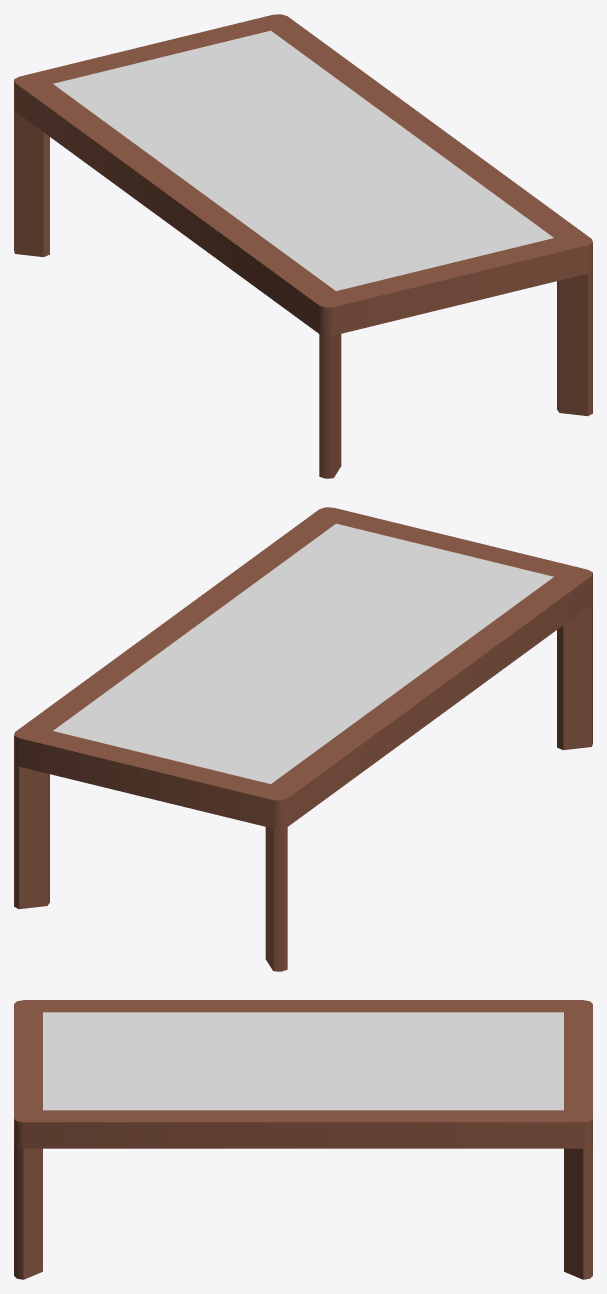
Rendered from Table.fbx.
3 views of the same model, one above another, from view 1: azimuth 30°, elevation 25°; view 2: azimuth 150°, elevation 25°; view 3: azimuth 270°, elevation 25° (orthographic). The views are drawn at different scales.
Visible parts, largest first — view 1: Table; view 2: Table; view 3: Table.
Part boxes in pixels (x1=…): Table: x1=14, y1=14, x2=592, y2=478; Table: x1=14, y1=507, x2=592, y2=971; Table: x1=14, y1=1000, x2=592, y2=1279.
Size of the model in its own units: 0.6 by 0.36 by 1.2.
